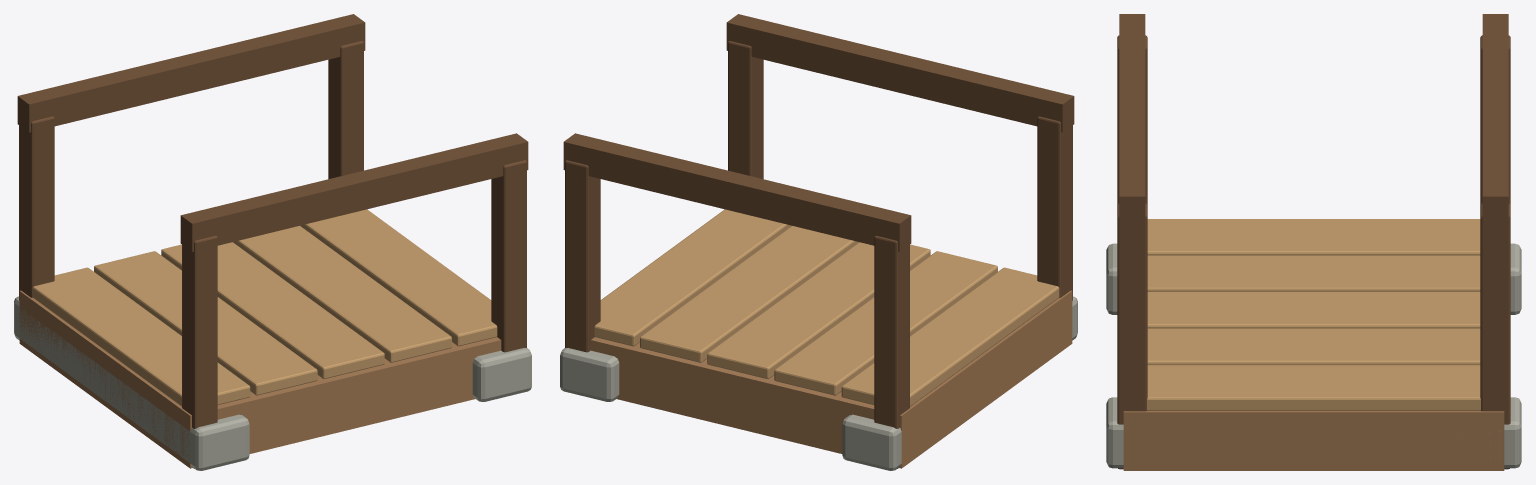
The model's file is bridge-single.glb.
The picture shows the model from 3 angles, left to right: view 1: azimuth 30°, elevation 25°; view 2: azimuth 150°, elevation 25°; view 3: azimuth 270°, elevation 25°; orthographic projection. The views are drawn at different scales.
Parts seen in each view (by area): view 1: Dark beams, Bridge highlights, Bridge oak, Fieldstone; view 2: Dark beams, Bridge highlights, Bridge oak, Fieldstone; view 3: Bridge highlights, Dark beams, Bridge oak, Fieldstone.
Part boxes in pixels (<box>): Dark beams: <box>17,14,528,468</box>; Bridge highlights: <box>32,209,497,406</box>; Bridge oak: <box>19,290,501,468</box>; Fieldstone: <box>14,296,531,470</box>; Dark beams: <box>563,14,1074,468</box>; Bridge highlights: <box>594,209,1059,406</box>; Bridge oak: <box>590,290,1072,468</box>; Fieldstone: <box>560,296,1077,470</box>; Bridge highlights: <box>1147,219,1480,410</box>; Dark beams: <box>1117,14,1510,469</box>; Bridge oak: <box>1123,410,1504,470</box>; Fieldstone: <box>1106,243,1521,468</box>.
Size of the model in its own units: 1 by 0.7 by 0.96.
